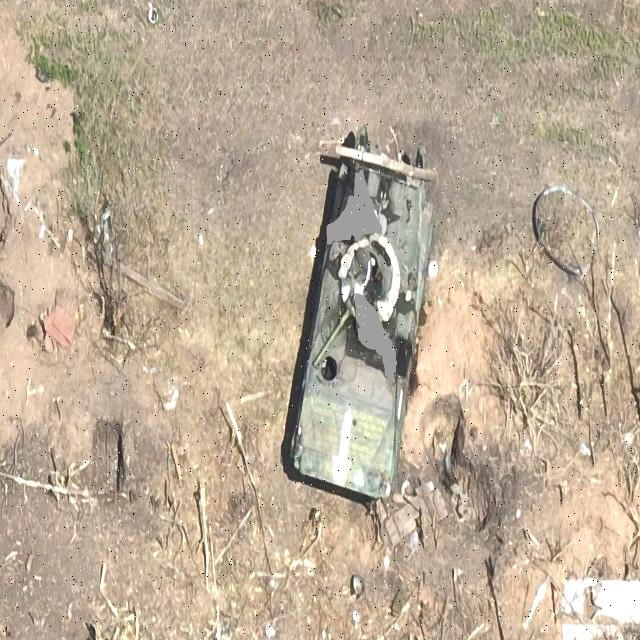AIFV: (282, 135, 441, 511)
